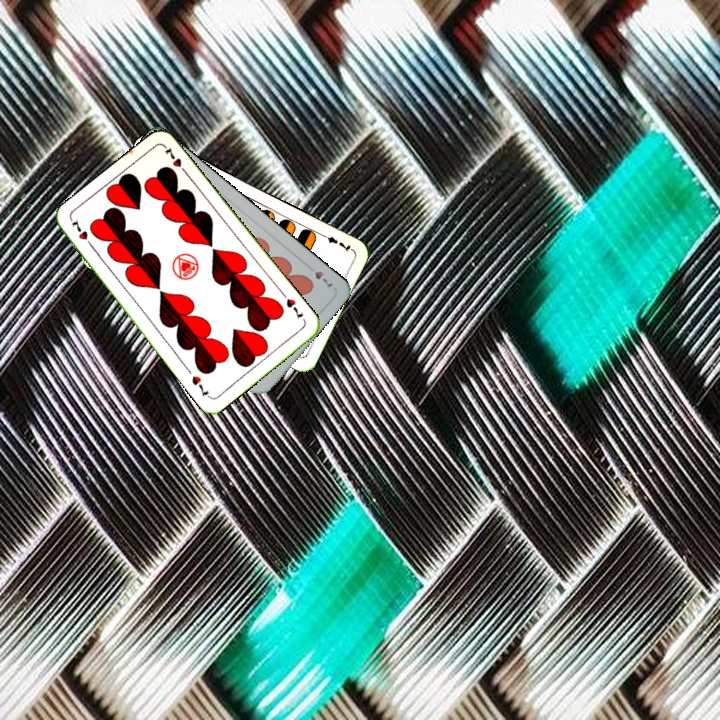E7: (317, 229, 354, 254)
H7: (67, 216, 96, 251), (278, 289, 306, 322), (310, 267, 336, 290)
